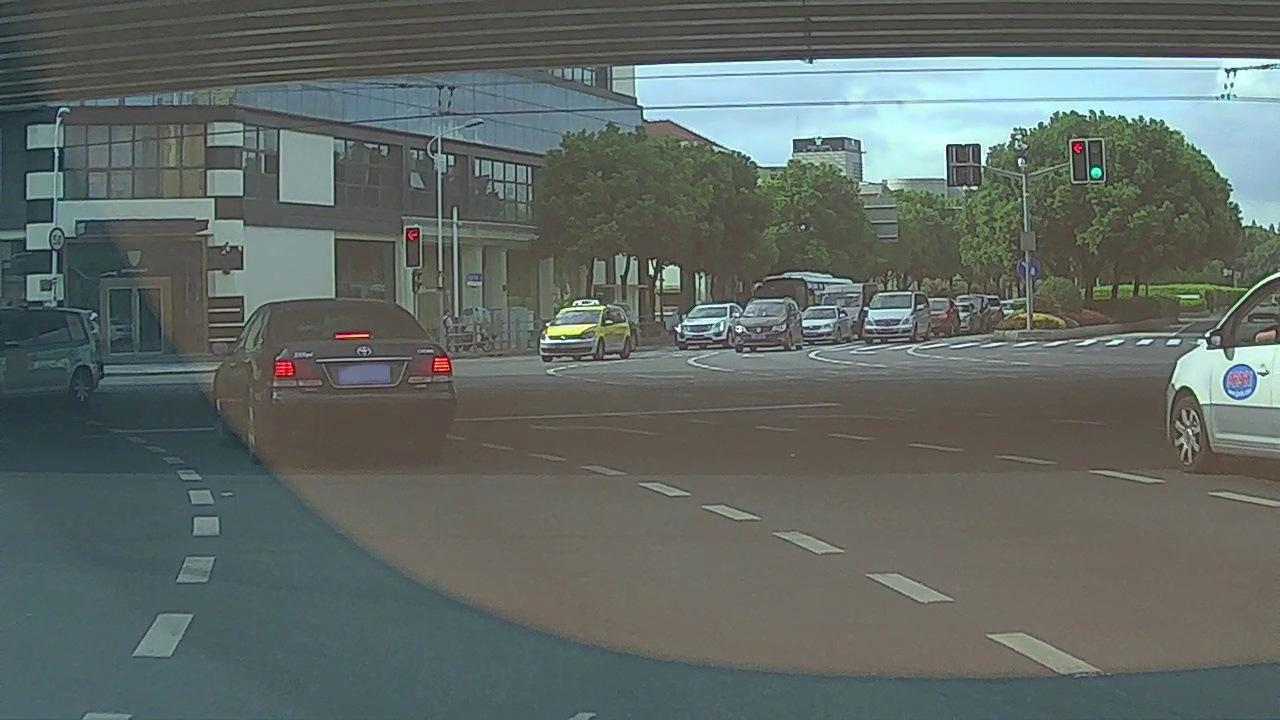traffic_light: (1088, 139, 1105, 182), (1071, 140, 1087, 182), (406, 226, 420, 268)
